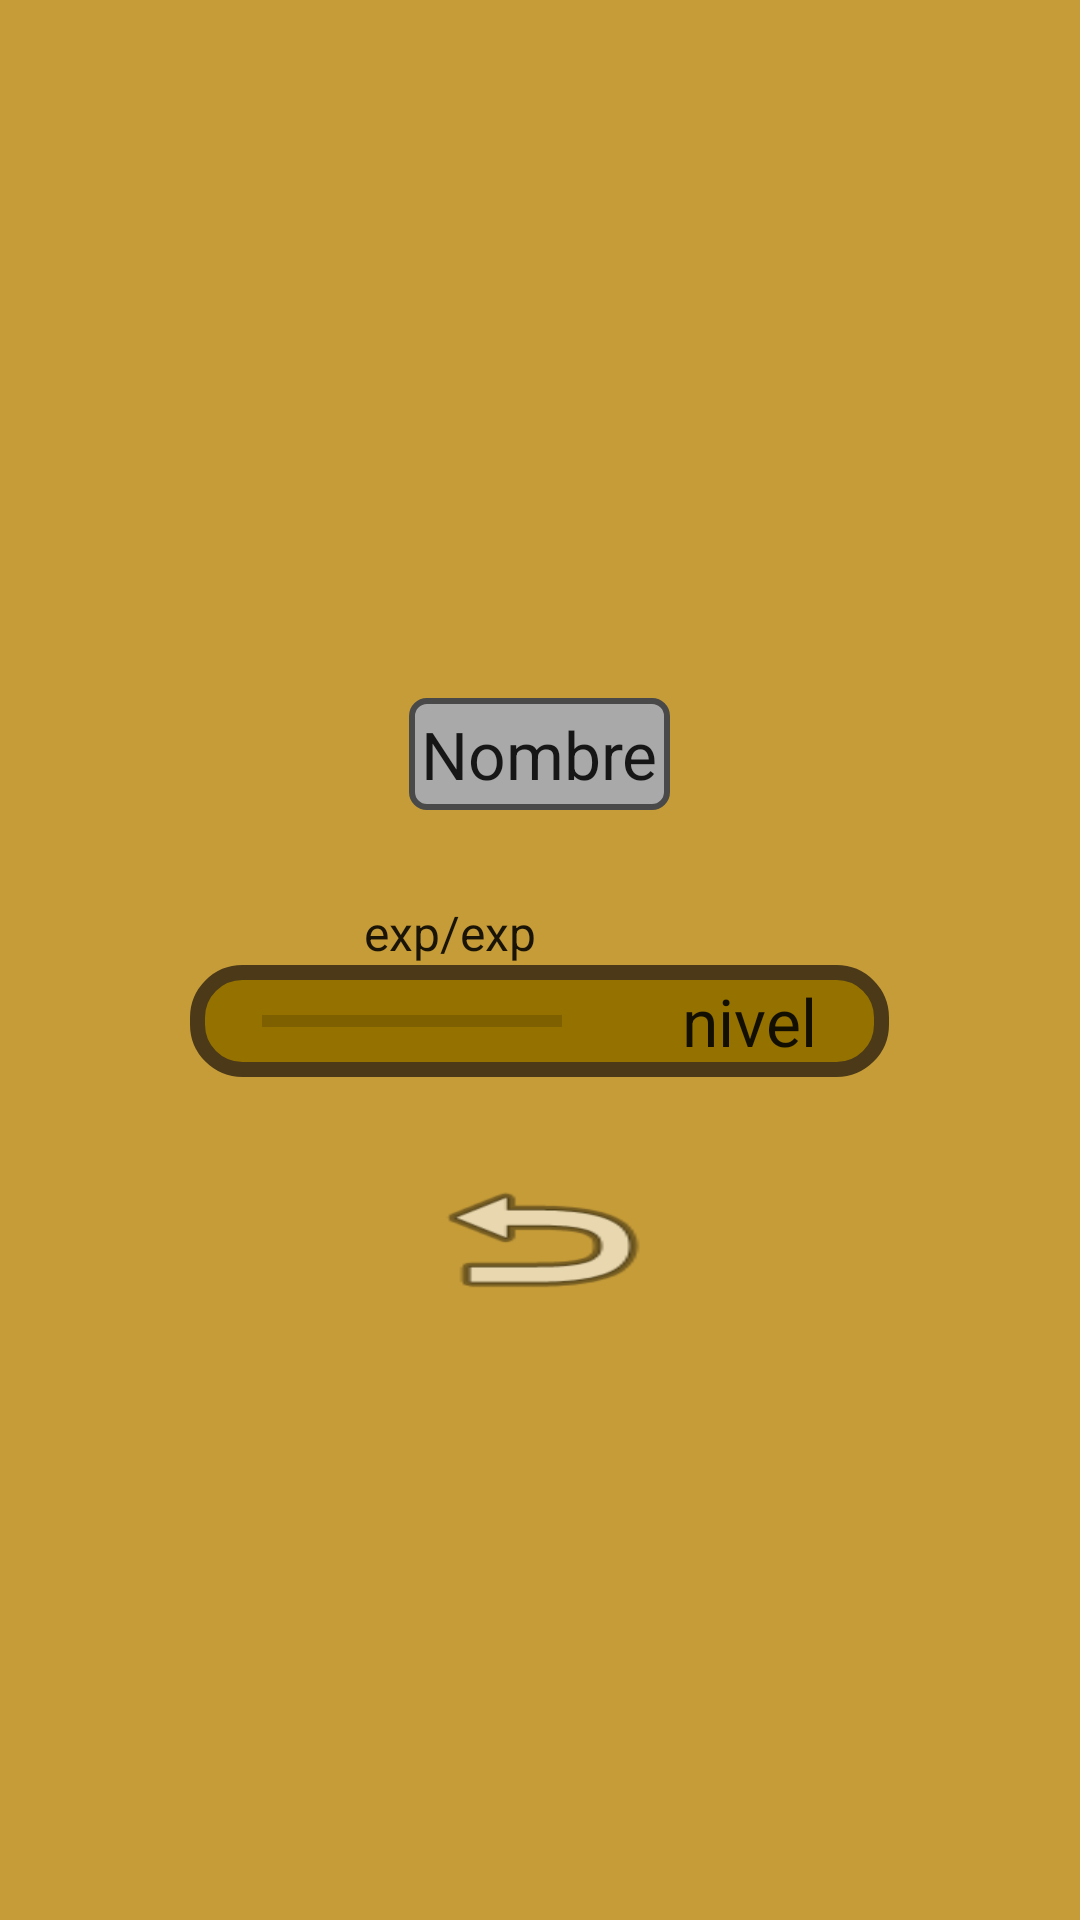

Point at icon controls on the screen. Image size 1080px x 1920px, points as point (x, y).
revert: point (543, 1240)
